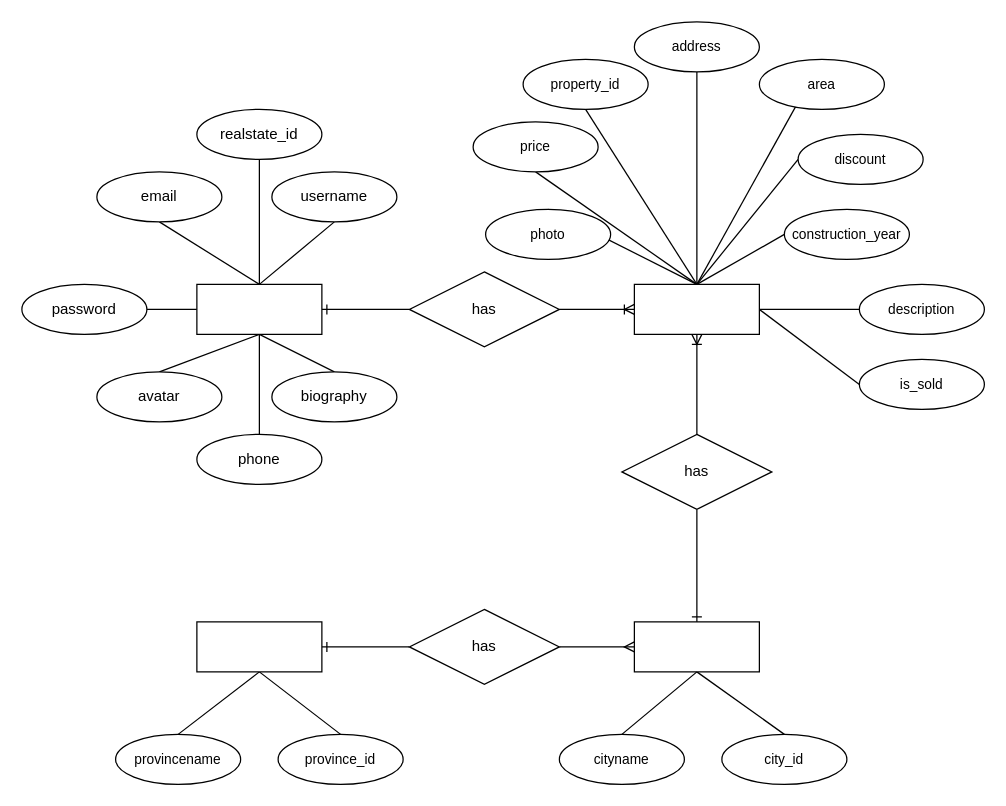
Image size: 1006x806. Some labels were removed from this diagram. The centre of each missing label's shape, as x and y in pixels:
"city" goes at (x=696, y=646).
"property" goes at (x=696, y=308).
"province" goes at (x=259, y=646).
"real_state" goes at (x=259, y=308).
